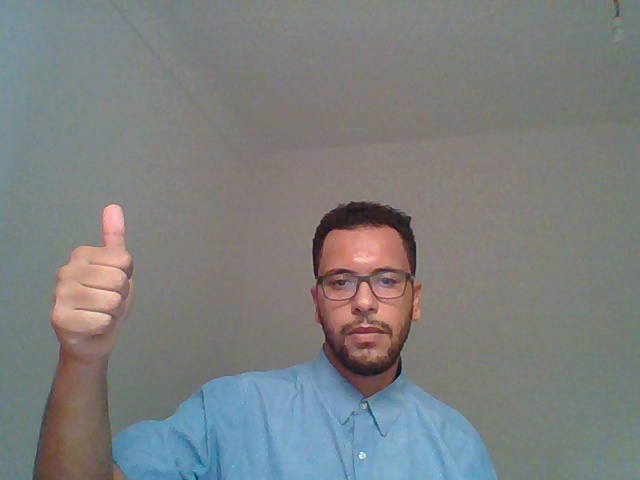ok: (35, 182, 158, 427)
